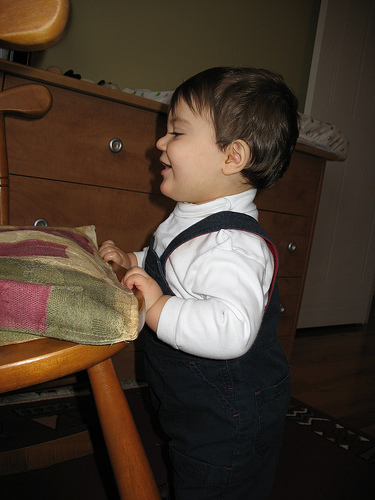without_mask: (143, 74, 308, 215)
